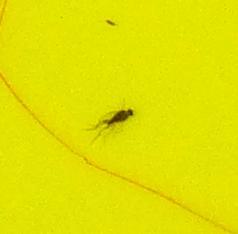Orthoptera: (83, 106, 134, 144)
